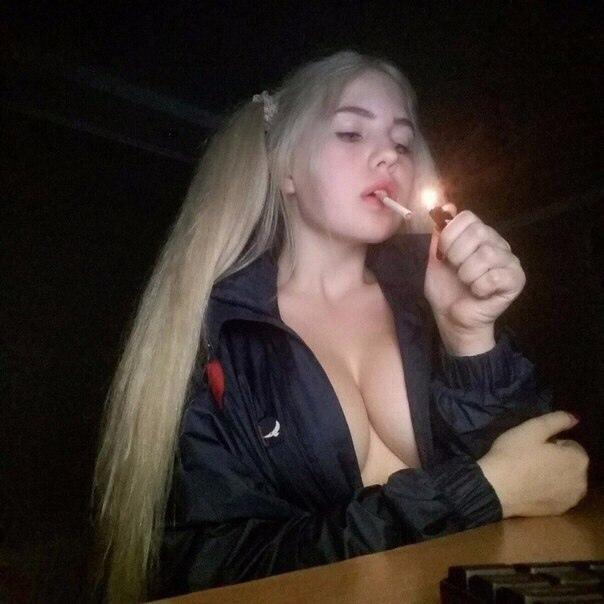cigarette: (375, 194, 412, 219)
